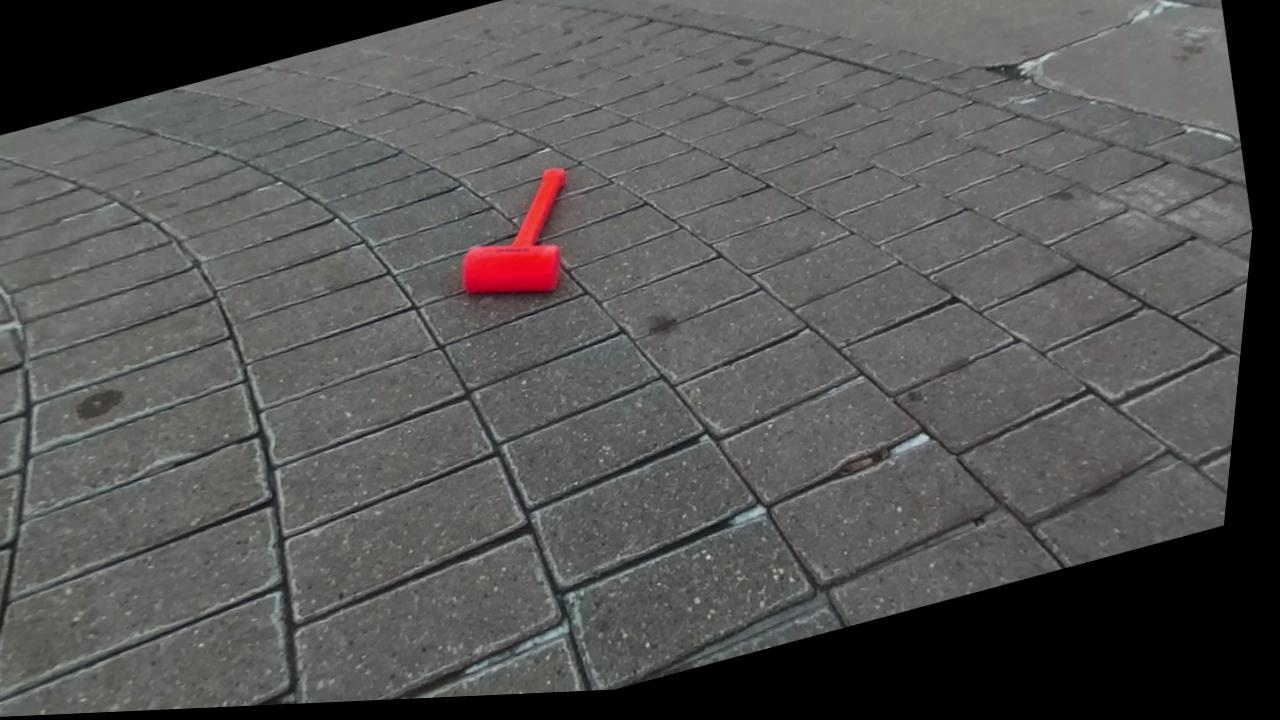mallet: (462, 167, 564, 291)
